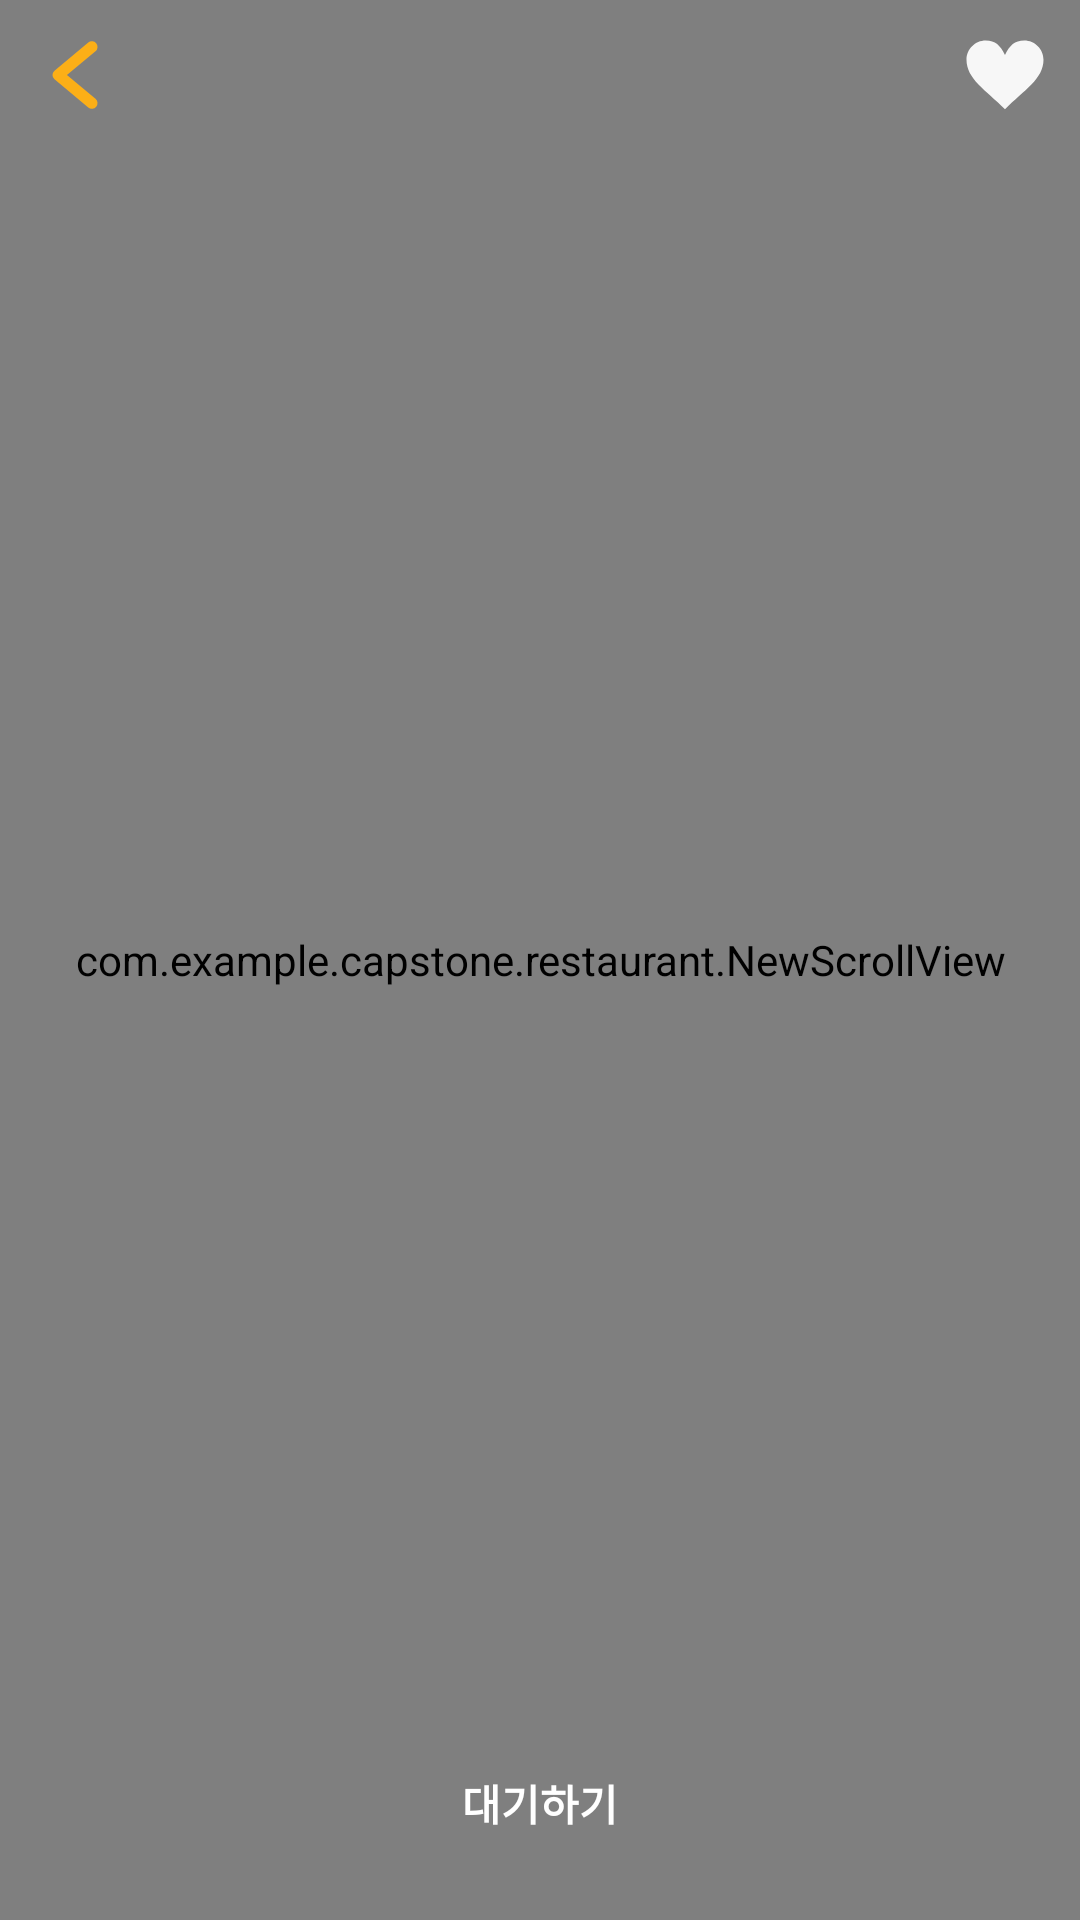

Screen size 1080*1920. Icon name, then its center in pixels as (x,y):
back: (75,75)
heart: (1005,74)
